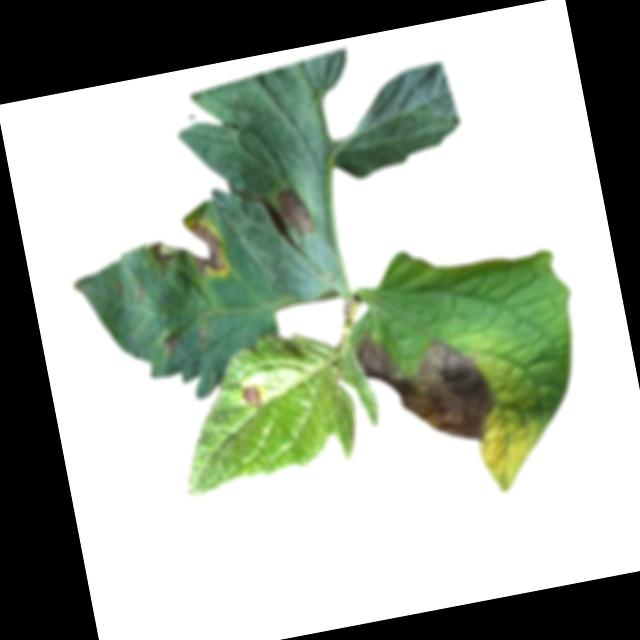Early_blight: (349, 306, 503, 461), (145, 217, 230, 288), (275, 182, 317, 240), (239, 380, 262, 409), (162, 331, 183, 352)
